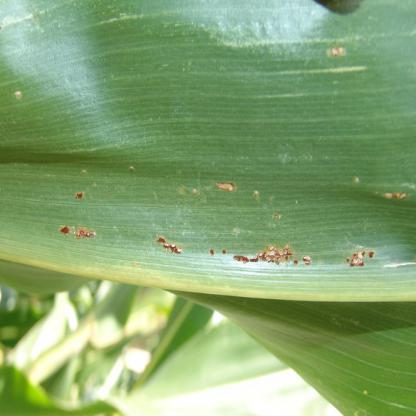corn rust leaf: (0, 1, 416, 310)
